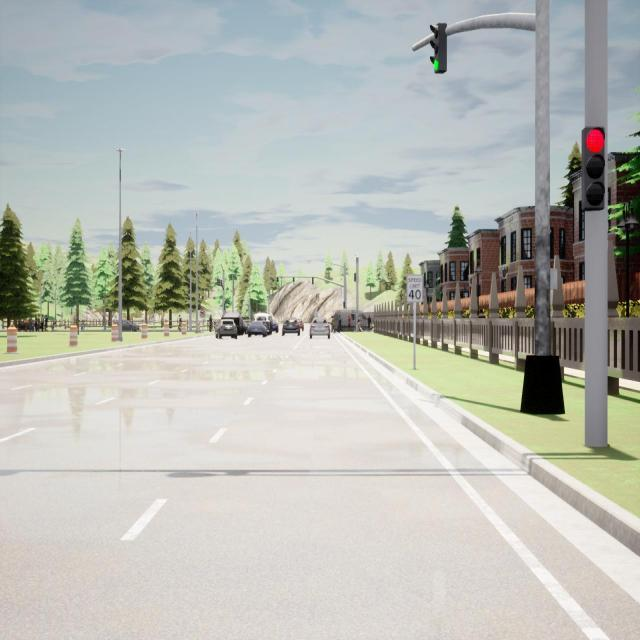Pedestrian: (330, 314, 336, 334), (176, 314, 182, 332), (346, 314, 352, 331), (337, 314, 342, 333), (367, 313, 372, 332), (208, 315, 213, 332), (28, 316, 33, 332), (40, 313, 44, 332), (358, 314, 362, 332), (36, 314, 40, 332), (23, 318, 28, 332), (44, 314, 48, 331), (79, 322, 85, 332), (51, 321, 55, 332)
Traffic_Signs: (407, 274, 423, 302), (200, 310, 205, 317)
Vehicle: (334, 309, 374, 331), (222, 312, 245, 335), (308, 318, 330, 340), (214, 320, 238, 340), (247, 320, 267, 340), (253, 313, 272, 334), (281, 317, 300, 337), (122, 320, 140, 332), (272, 319, 279, 334), (297, 319, 304, 331), (243, 322, 250, 333)
traffic_light: (581, 127, 605, 210), (429, 23, 447, 74), (354, 272, 356, 282), (312, 277, 314, 285), (344, 301, 346, 308), (293, 277, 295, 284), (277, 277, 279, 284), (220, 280, 222, 286), (217, 279, 218, 285), (219, 280, 220, 286)
